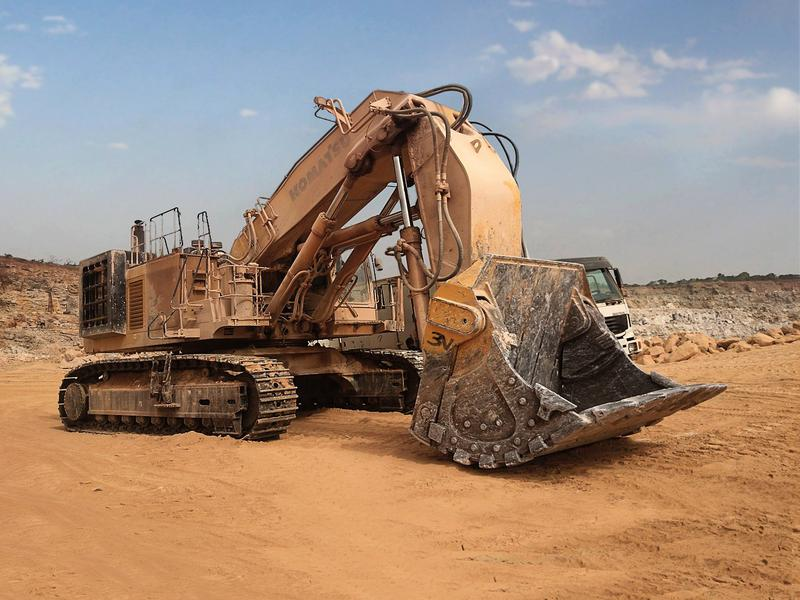shovel: (56, 83, 729, 472)
